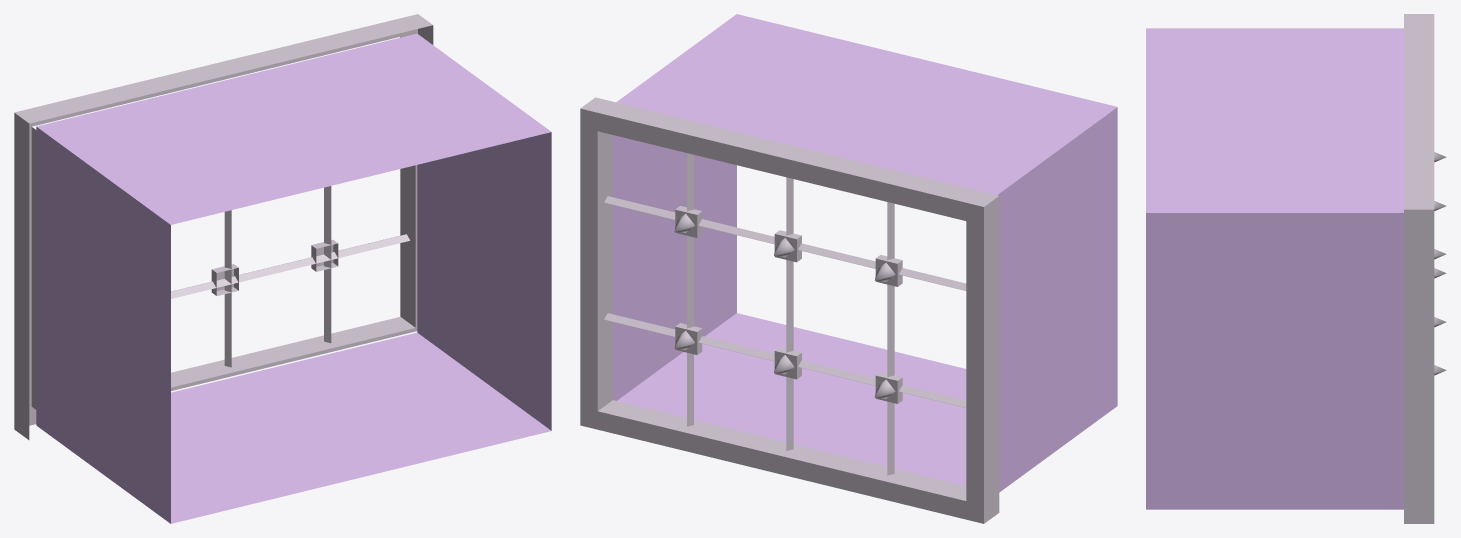
3 views of the same model, side by side, from view 1: azimuth 30°, elevation 25°; view 2: azimuth 150°, elevation 25°; view 3: azimuth 270°, elevation 25° (orthographic).
Parts seen in each view (by area): view 1: Object10; view 2: Object10; view 3: Object10.
Boxes of the visible parts, bbox=[...] form: Object10: bbox=[14, 14, 551, 523]; Object10: bbox=[580, 14, 1117, 523]; Object10: bbox=[1146, 14, 1446, 523].
Bounding box in the file's own units: 40000 × 30000 × 26002.
